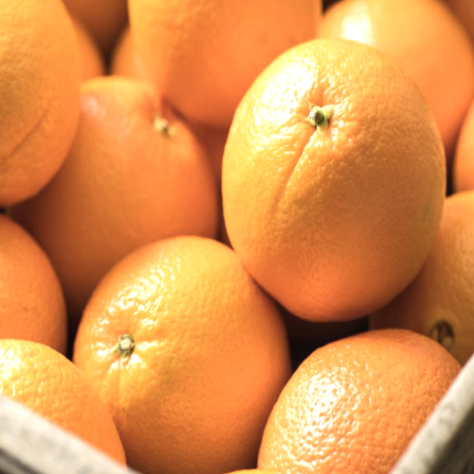orange: (208, 13, 454, 333), (57, 209, 302, 474)
